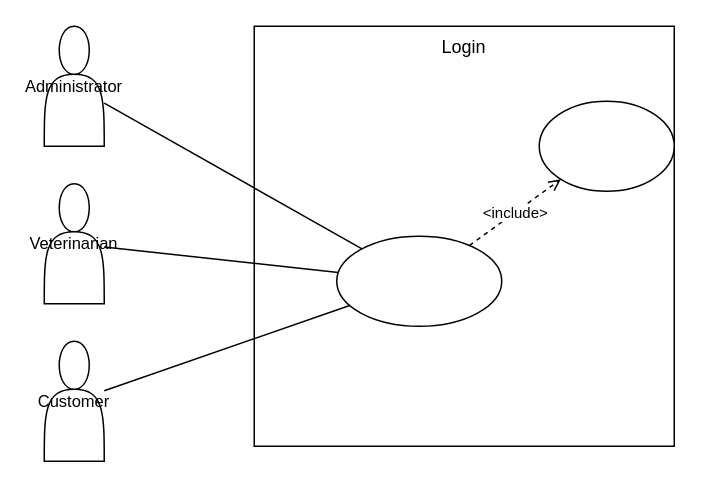
This 701x488 diagram has some shape labels left out. The centre of each missing label's shape, as x and y in pixels:
"Authenticate User" belongs at [418,280].
"Validate Credentials" belongs at [606,145].
